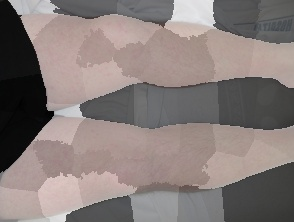SJS-TEN: (0, 108, 294, 222), (11, 9, 294, 114)
